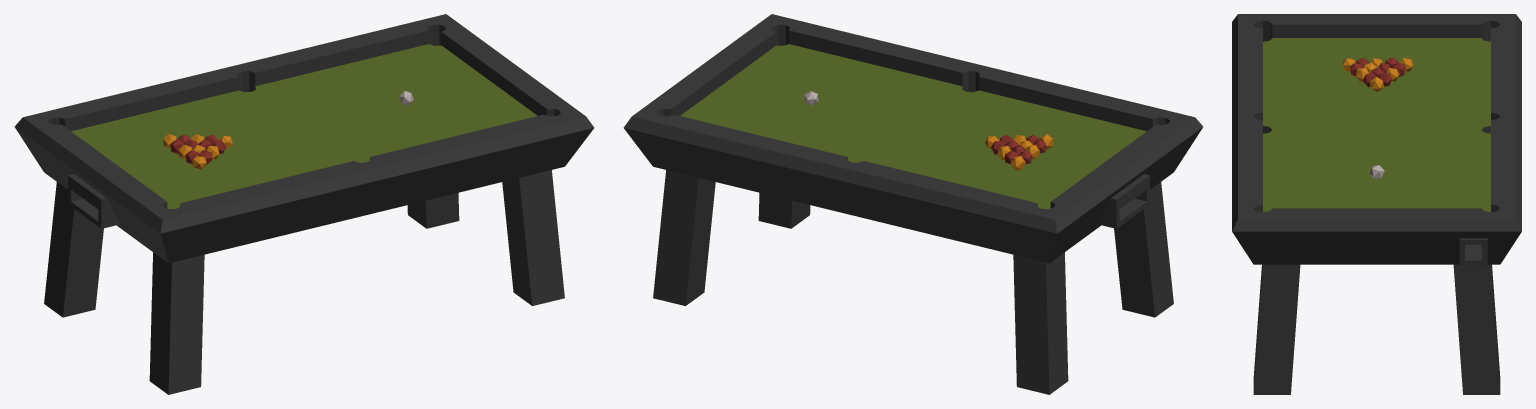
3 views of the same model, side by side, from view 1: azimuth 30°, elevation 25°; view 2: azimuth 150°, elevation 25°; view 3: azimuth 270°, elevation 25° (orthographic).
Visible parts, largest first — view 1: Plane; view 2: Plane; view 3: Plane.
Part boxes in pixels (left/top/right/bottom): Plane: left=14, top=14, right=594, bottom=394; Plane: left=623, top=14, right=1203, bottom=394; Plane: left=1232, top=14, right=1521, bottom=394.
Bounding box in the file's own units: 2.06 × 0.8352 × 1.2.
